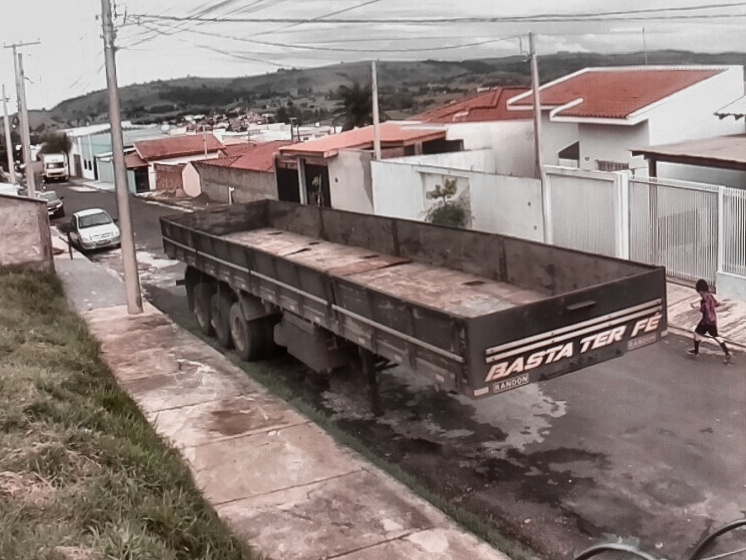person: (687, 276, 733, 364)
